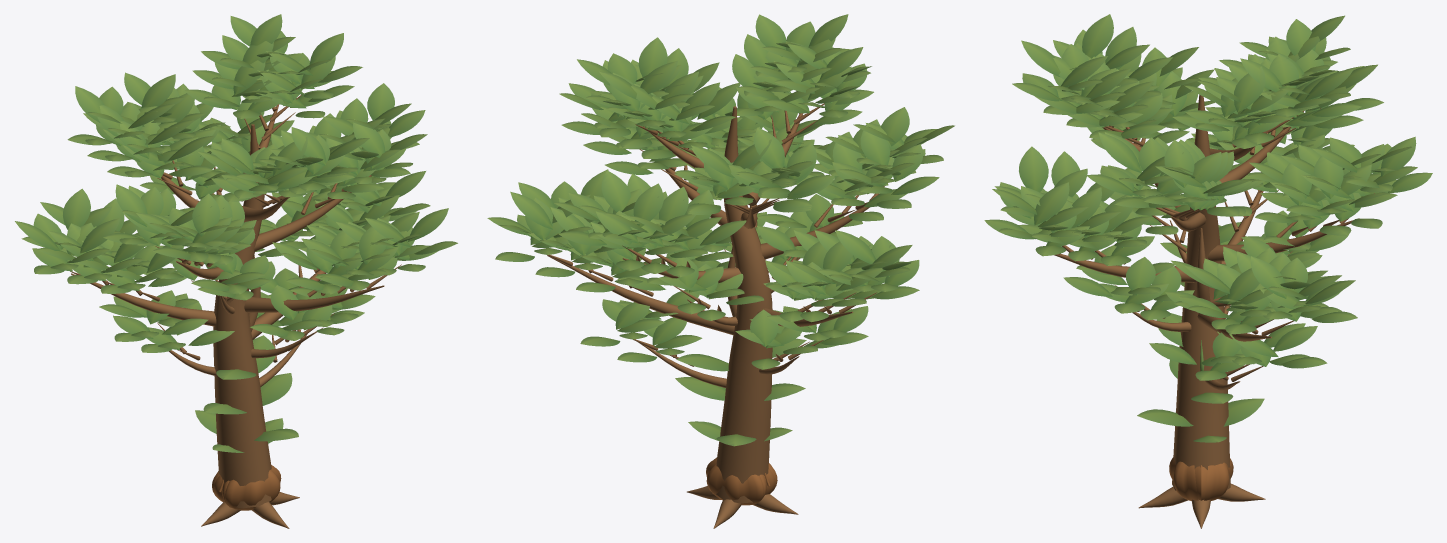
The model's file is 生命樹生長階段.glb.
3 views of the same model, side by side, from view 1: azimuth 30°, elevation 25°; view 2: azimuth 150°, elevation 25°; view 3: azimuth 270°, elevation 25° (orthographic). The views are drawn at different scales.
Visible parts, largest first — view 1: 嫩葉_4_0_0_0, 成長側枝_4_0, 嫩葉_3_0_0_0, 嫩葉_2_0, 生長細枝_4_0_0, 成長側枝_3_0, 種殼_生長階段_01_發芽_1; view 2: 嫩葉_4_0_0_0, 成長側枝_4_0, 嫩葉_3_0_0_0, 嫩葉_2_0, 生長細枝_4_0_0, 種殼_生長階段_01_發芽_0, 成長側枝_3_0, 嫩葉_1_0; view 3: 嫩葉_4_0_0_0, 成長側枝_4_0, 嫩葉_3_0_0_0, 嫩葉_2_0, 生長細枝_4_0_0, 成長側枝_3_0, 種殼_生長階段_01_發芽_1, 種殼_生長階段_01_發芽_0.
Boxes of the visible parts, left/top/right/bottom form: 嫩葉_4_0_0_0: left=15, top=14, right=457, bottom=294; 成長側枝_4_0: left=71, top=104, right=384, bottom=528; 嫩葉_3_0_0_0: left=99, top=223, right=375, bottom=352; 嫩葉_2_0: left=195, top=335, right=298, bottom=441; 生長細枝_4_0_0: left=70, top=93, right=401, bottom=301; 成長側枝_3_0: left=169, top=255, right=314, bottom=386; 種殼_生長階段_01_發芽_1: left=225, top=465, right=281, bottom=510; 嫩葉_4_0_0_0: left=487, top=14, right=954, bottom=322; 成長側枝_4_0: left=547, top=106, right=869, bottom=528; 嫩葉_3_0_0_0: left=580, top=193, right=868, bottom=369; 嫩葉_2_0: left=675, top=338, right=806, bottom=446; 生長細枝_4_0_0: left=548, top=90, right=884, bottom=314; 種殼_生長階段_01_發芽_0: left=706, top=458, right=763, bottom=505; 成長側枝_3_0: left=638, top=247, right=799, bottom=387; 嫩葉_1_0: left=688, top=421, right=792, bottom=441; 嫩葉_4_0_0_0: left=984, top=14, right=1432, bottom=334; 成長側枝_4_0: left=1054, top=95, right=1359, bottom=528; 嫩葉_3_0_0_0: left=1063, top=168, right=1348, bottom=380; 嫩葉_2_0: left=1137, top=313, right=1264, bottom=426; 生長細枝_4_0_0: left=1058, top=108, right=1374, bottom=335; 成長側枝_3_0: left=1132, top=220, right=1240, bottom=390; 種殼_生長階段_01_發芽_1: left=1169, top=457, right=1198, bottom=500; 種殼_生長階段_01_發芽_0: left=1204, top=458, right=1233, bottom=500.
Size of the model in its own units: 4.54 by 4.84 by 4.18.
